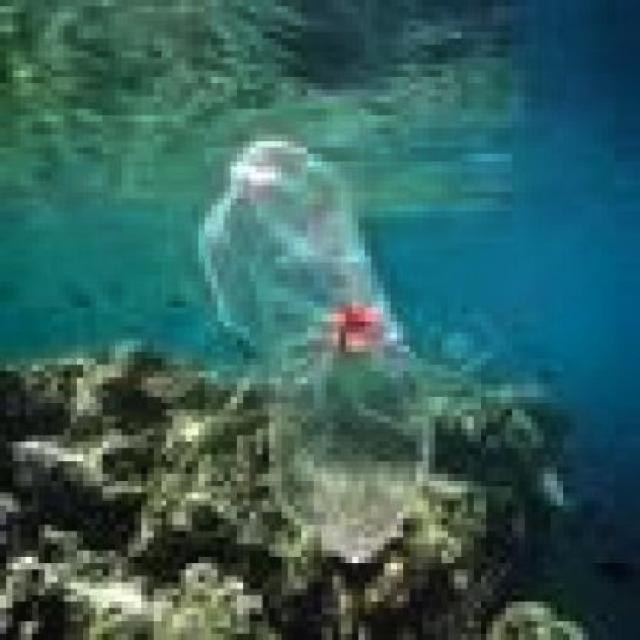pbag: (192, 134, 436, 563)
